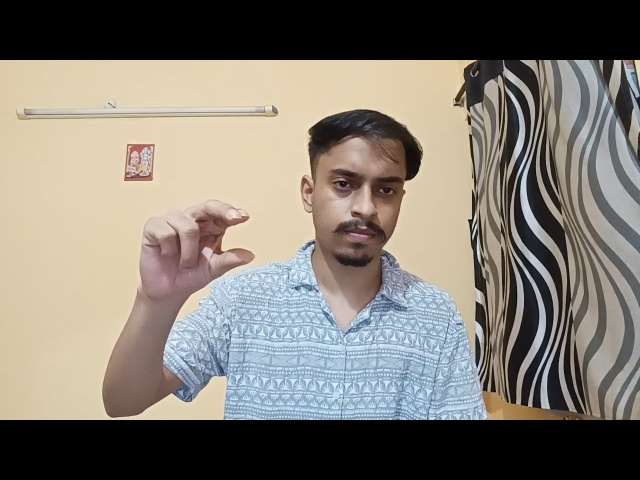No: (129, 182, 280, 303)
